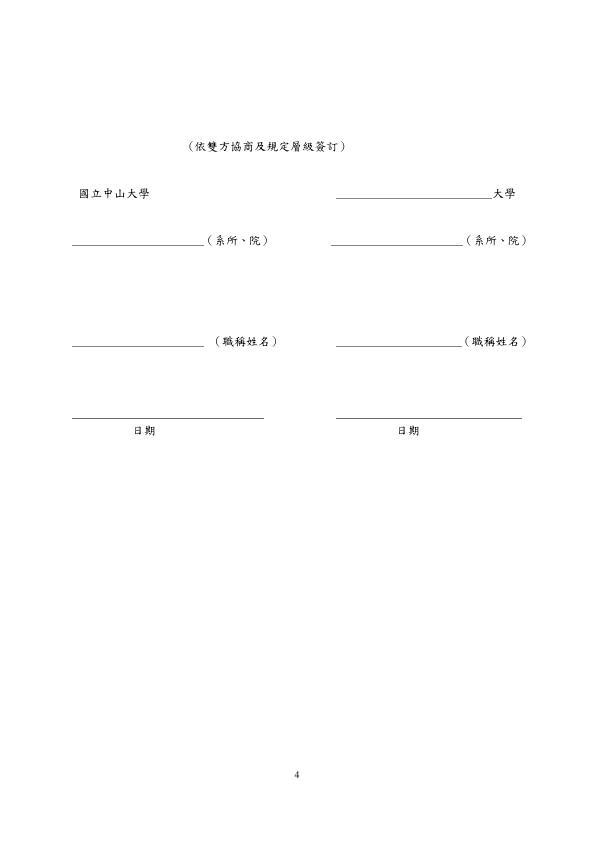input: (329, 227, 464, 255), (336, 402, 525, 422), (68, 331, 205, 358), (69, 405, 267, 422), (333, 186, 494, 204), (66, 232, 203, 251), (334, 332, 462, 352)
text: (188, 139, 351, 160), (213, 330, 282, 358), (205, 228, 271, 254), (463, 329, 531, 354), (70, 184, 154, 203), (464, 231, 531, 253), (128, 422, 159, 439), (394, 424, 422, 437), (494, 186, 518, 201)
